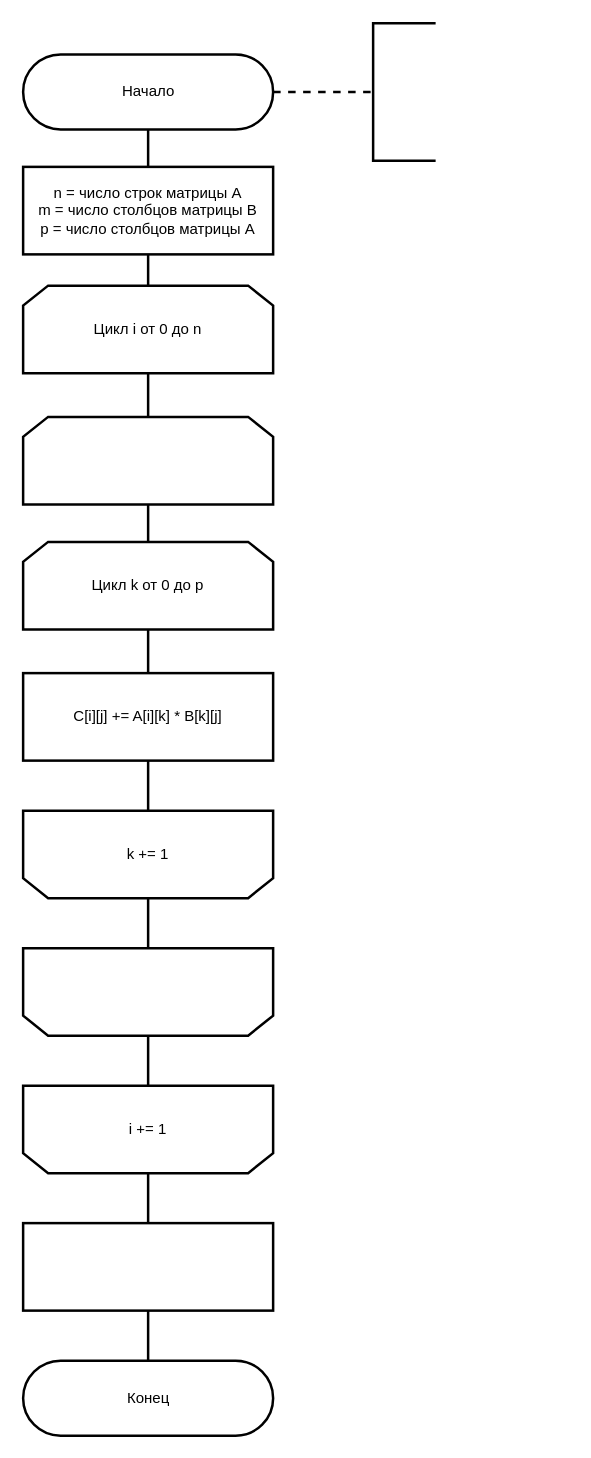
Some shapes in this 591 by 1458 pixel diagram are drawn without their labels. The shapes that lost their labels are listed below. From the top down, each one's centre as x and y in pixels, then its label:
[403,91]: Стандартный алгоритм умножения матриц Вход: матрицы A, B Выход: матрица C
[147,460]: Цикл j от 0 до m
[147,991]: j += 1
[147,1266]: Вернуть С
